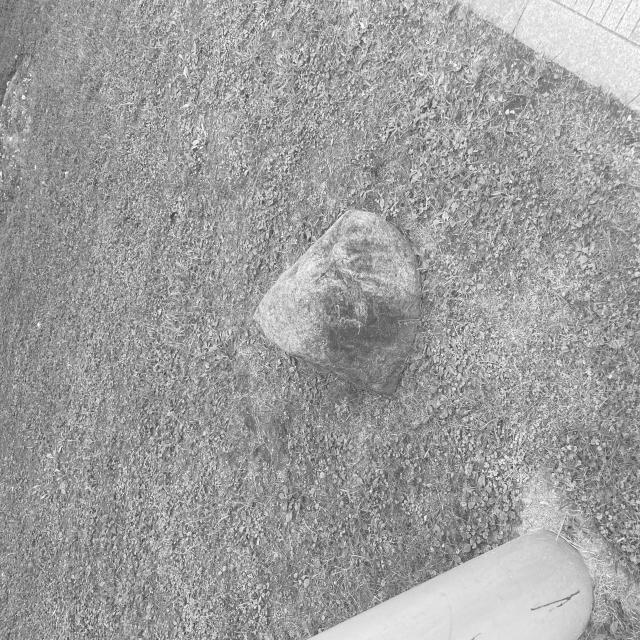Stone: (255, 210, 420, 393)
